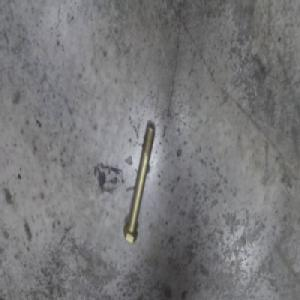Bolt: (123, 124, 157, 242)
